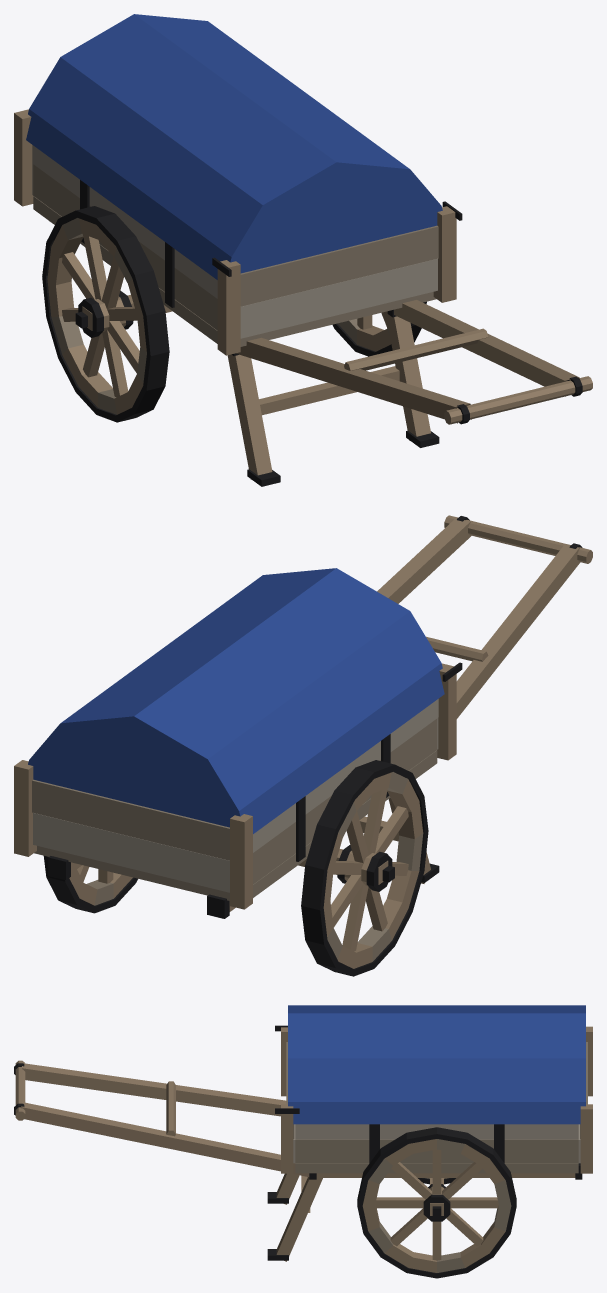
Rendered from karren_hand.glb.
3 renders of one model, top to bottom at view 1: azimuth 30°, elevation 25°; view 2: azimuth 150°, elevation 25°; view 3: azimuth 270°, elevation 25°, orthographic. The views are drawn at different scales.
Parts seen in each view (by area): view 1: Plane, Karren, Rad_R, Stuetze, Rad_L; view 2: Plane, Karren, Rad_R, Rad_L; view 3: Plane, Karren, Rad_L, Stuetze.
Part boxes in pixels (bbox=[...]): Plane: bbox=[26, 14, 442, 279]; Karren: bbox=[14, 109, 592, 424]; Rad_R: bbox=[42, 206, 169, 422]; Stuetze: bbox=[227, 311, 439, 486]; Rad_L: bbox=[332, 301, 426, 356]; Plane: bbox=[28, 568, 444, 833]; Karren: bbox=[14, 515, 592, 918]; Rad_R: bbox=[301, 760, 428, 976]; Rad_L: bbox=[43, 856, 137, 913]; Plane: bbox=[288, 1005, 585, 1124]; Karren: bbox=[14, 1025, 592, 1216]; Rad_L: bbox=[357, 1127, 516, 1278]; Stuetze: bbox=[267, 1173, 324, 1261].
Size of the model in its own units: 1.5 by 1.35 by 3.27.
